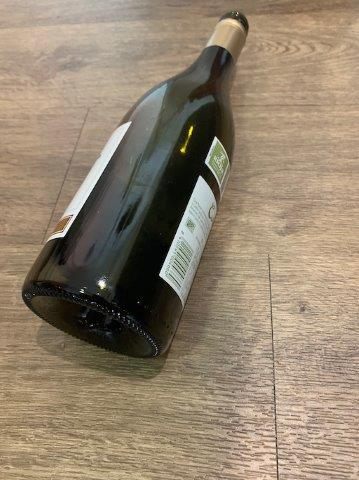botolkaca: (21, 11, 250, 359)
